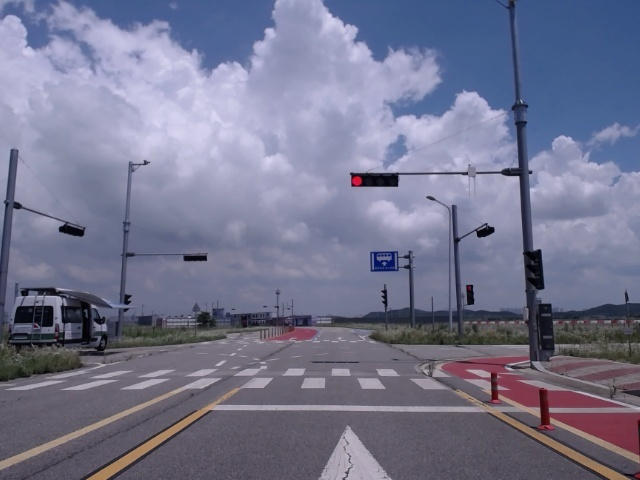red_4: (351, 174, 398, 187)
